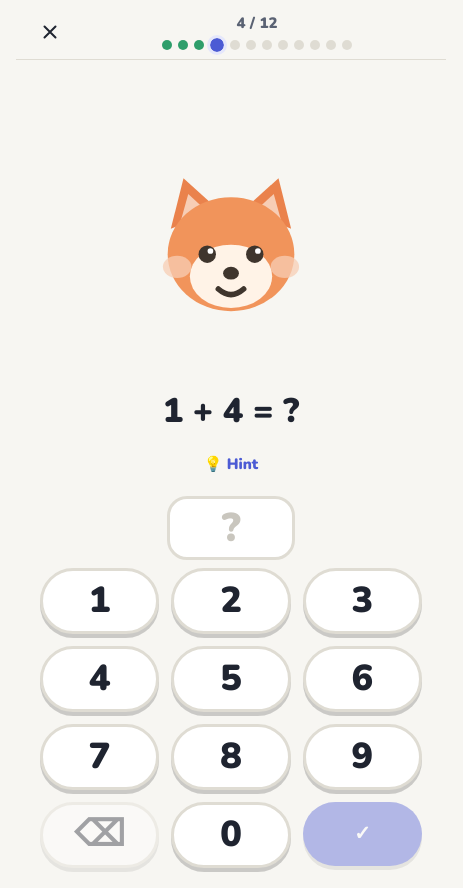
Test: QuestionScreen — Hint harus benar-benar menolong › menekan Hint di soal penjumlahan menampilkan angka SOAL INI, bukan contoh Learn
Click the button "💡 Hint".
click(231, 464)  # box [188, 440, 274, 488]
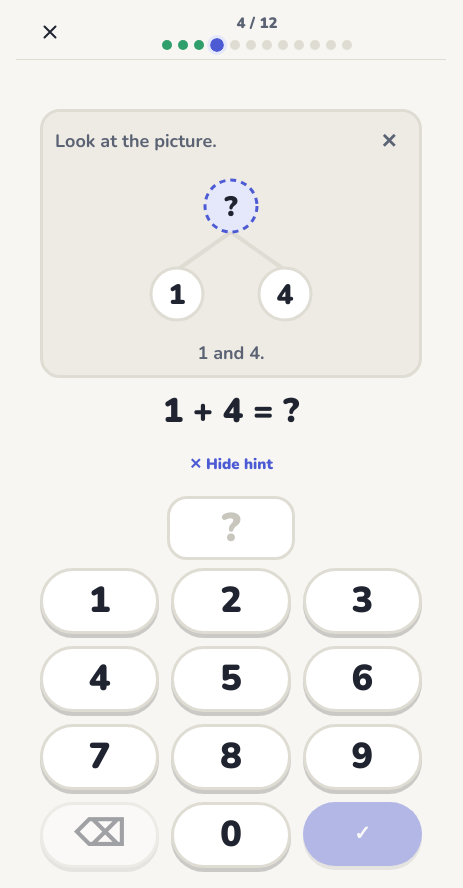
Expected: the text "Look at the picture." is shown, [55, 128, 217, 155]
